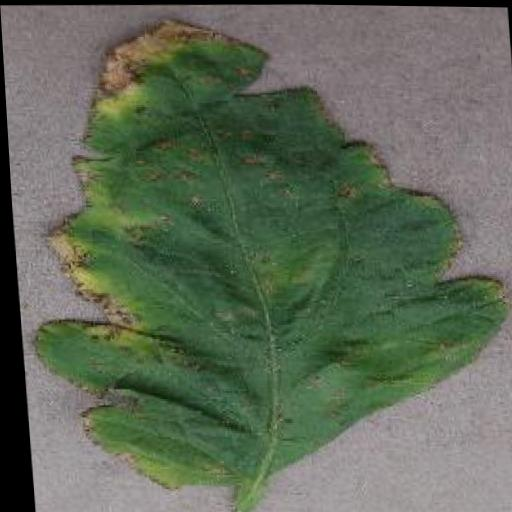Bacterial Spot: (0, 4, 512, 498)
